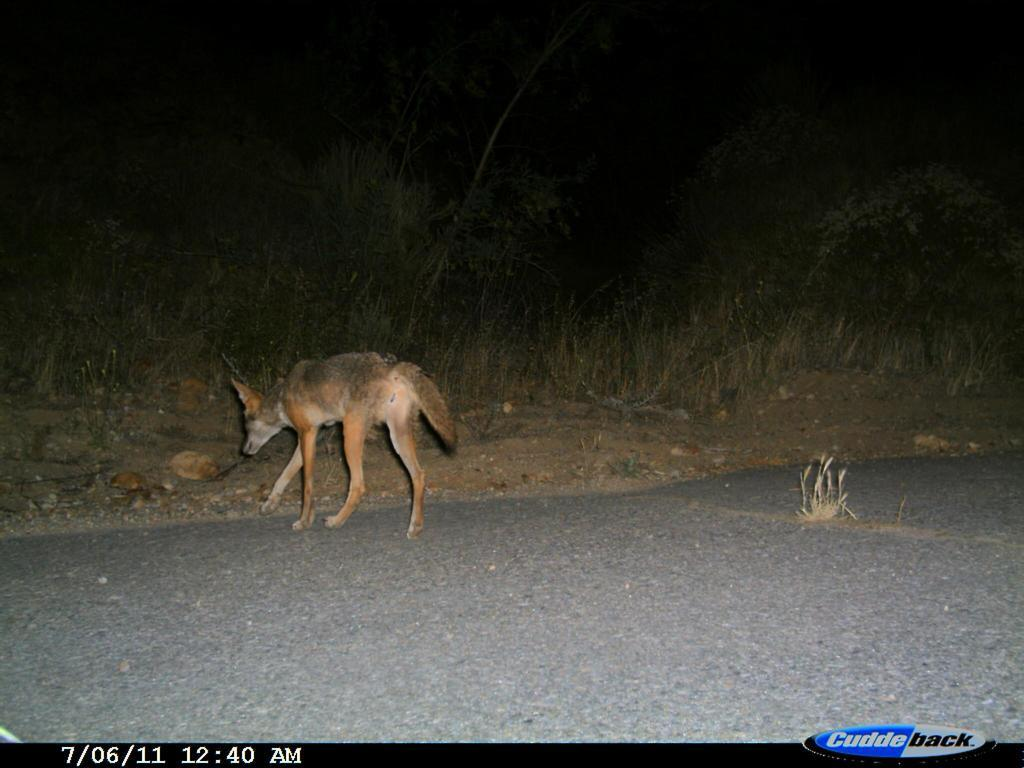coyote: (221, 338, 477, 548)
